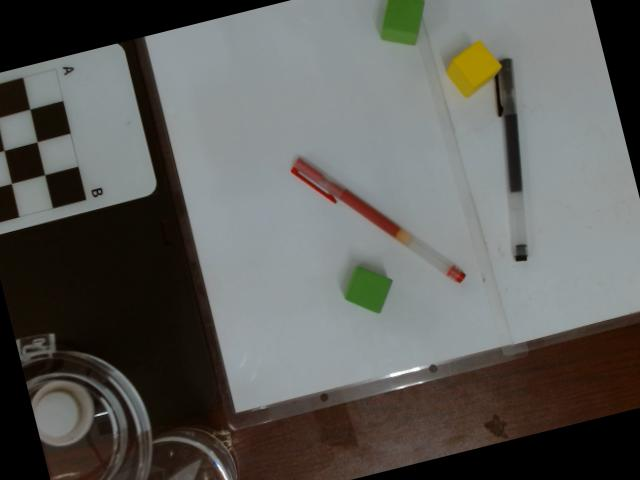PEN: (287, 158, 467, 286), (492, 58, 529, 261)
